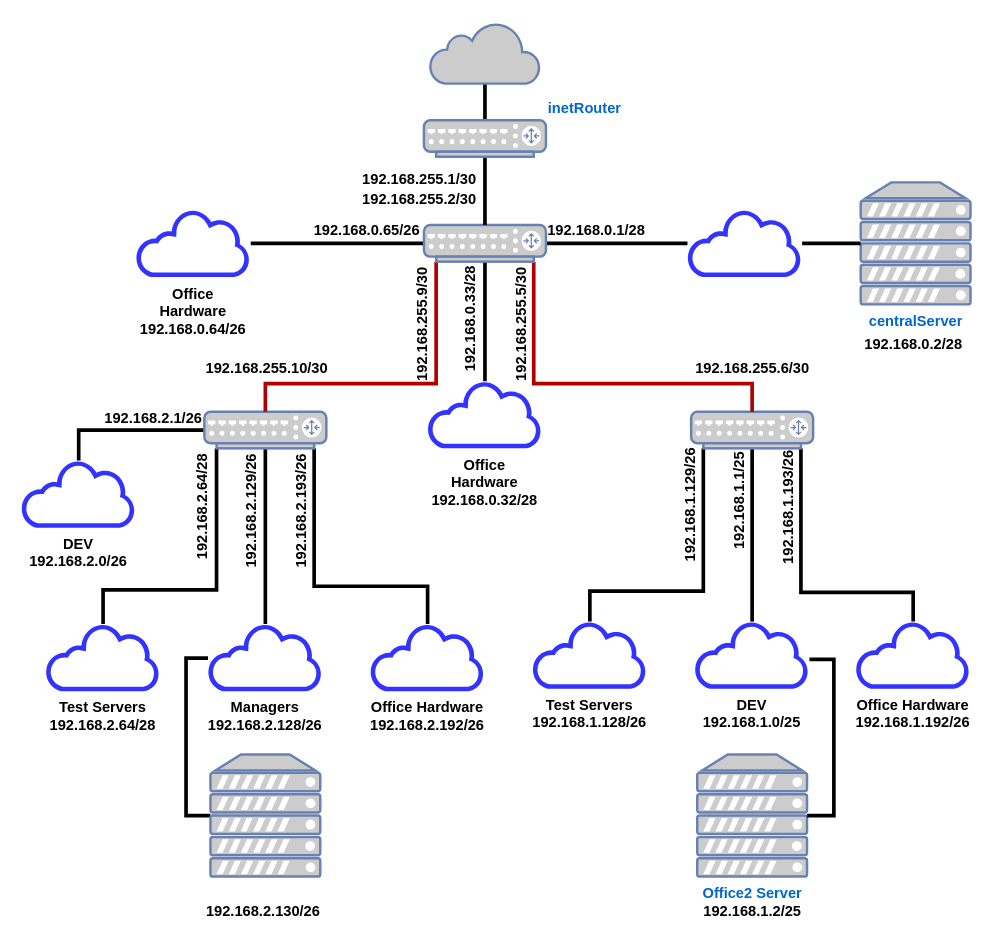
Some shapes in this 992 by 948 pixel diagram are drawn without their labels. Each missing label, with the centre of its shape:
Central Router: point (484, 242)
Directors 192.168.0.0/28: point (744, 242)
Internet: point (484, 52)
Office 1 Router: point (265, 429)
Office 2 Router: point (751, 429)
Office1 Server: point (265, 815)
